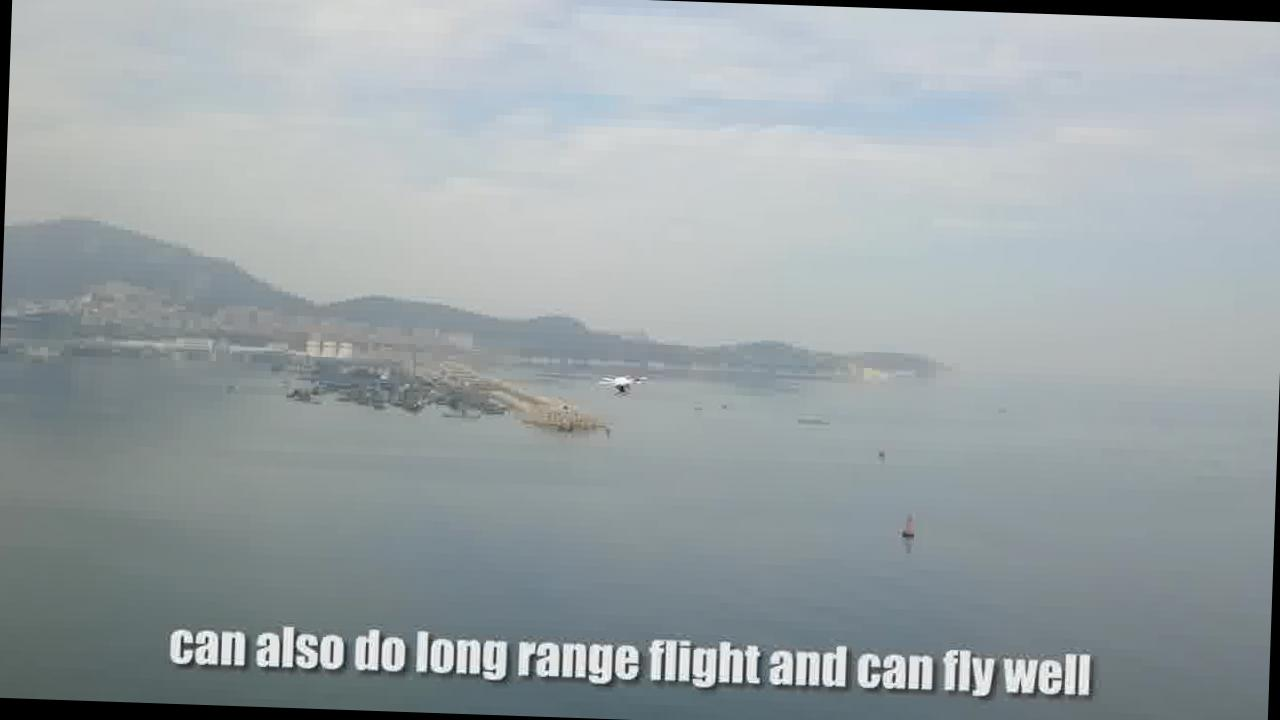drone: (591, 366, 645, 394)
